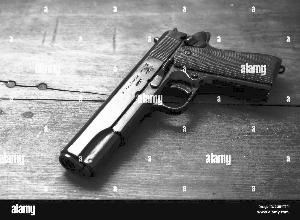handgun: (56, 23, 290, 183)
